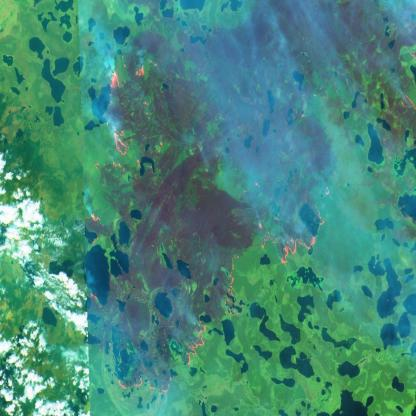fire: (104, 60, 166, 171), (254, 219, 332, 268), (82, 205, 108, 312), (178, 318, 212, 372), (223, 248, 246, 320), (115, 373, 181, 397), (402, 48, 416, 117)
